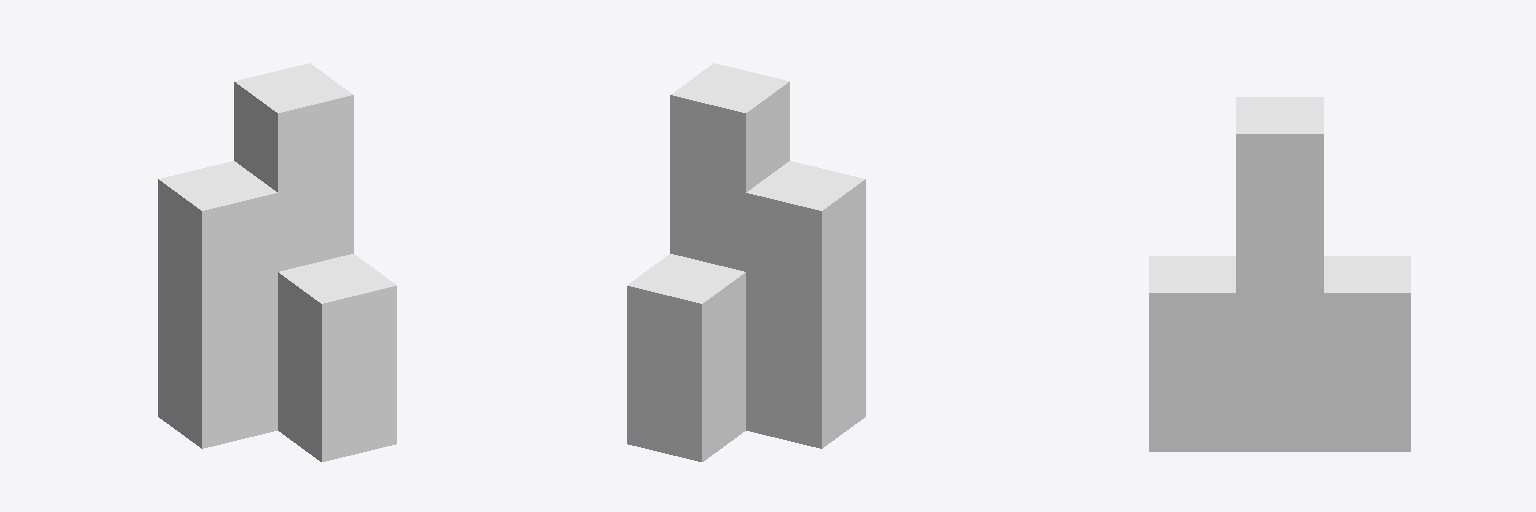
File: bunker3_1.obj
3 views of the same model, side by side, from view 1: azimuth 30°, elevation 25°; view 2: azimuth 150°, elevation 25°; view 3: azimuth 270°, elevation 25° (orthographic).
Visible parts, largest first — view 1: bunker3_1; view 2: bunker3_1; view 3: bunker3_1.
Boxes of the visible parts, <box> form: bunker3_1: <box>158,63,396,461</box>; bunker3_1: <box>627,63,865,461</box>; bunker3_1: <box>1149,97,1410,451</box>.
Bounding box in the file's own units: 2 × 4 × 3.